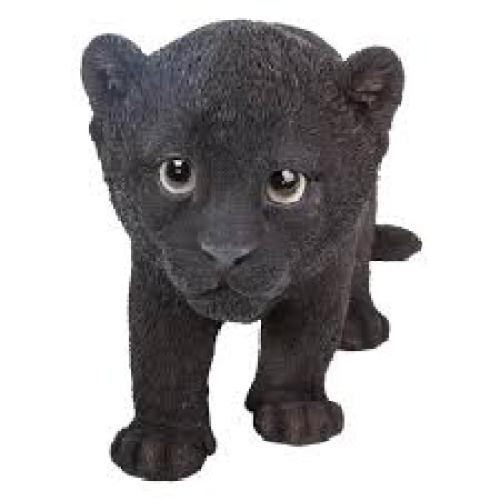panther-endangered: (78, 30, 406, 438)
